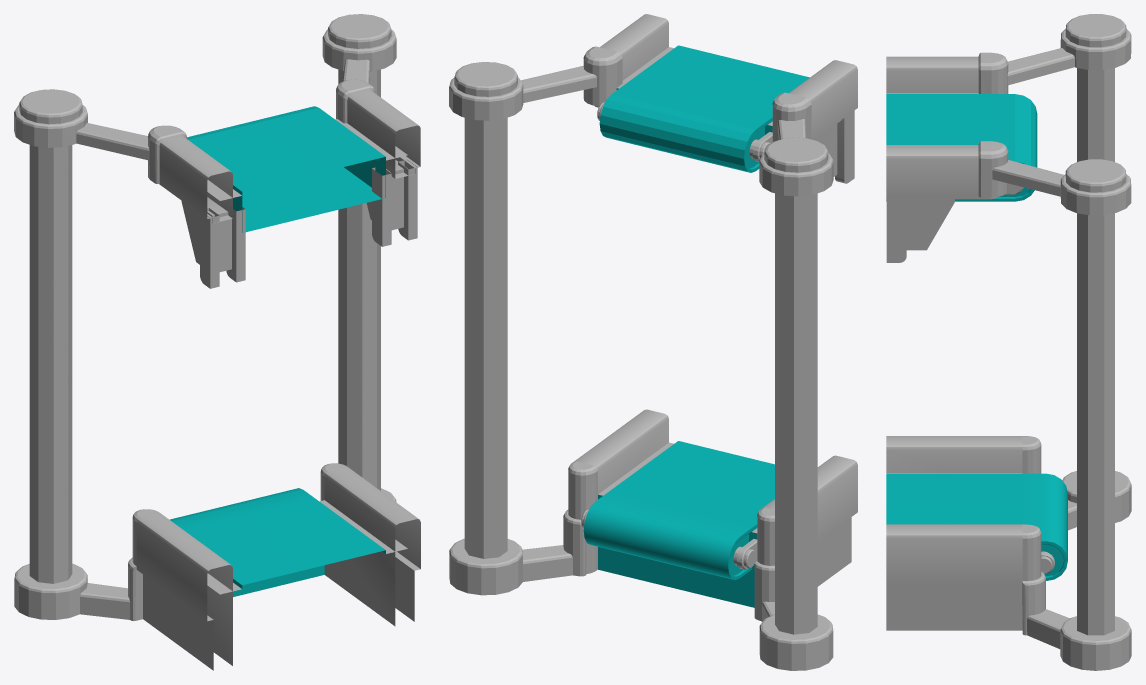
File: Lift1UpBackwardInternalVariant.gltf
3 renders of one model, left to right at view 1: azimuth 30°, elevation 25°; view 2: azimuth 150°, elevation 25°; view 3: azimuth 270°, elevation 25°, orthographic. The views are drawn at different scales.
Visible parts, largest first — view 1: Lift_1UpBackward_Layer0_LOD0; view 2: Lift_1UpBackward_Layer0_LOD0; view 3: Lift_1UpBackward_Layer0_LOD0.
Part boxes in pixels (left/top/right/bottom): Lift_1UpBackward_Layer0_LOD0: left=14, top=14, right=420, bottom=670; Lift_1UpBackward_Layer0_LOD0: left=449, top=14, right=857, bottom=670; Lift_1UpBackward_Layer0_LOD0: left=886, top=14, right=1131, bottom=670.
Bounding box in the file's own units: 0.9914 × 1.28 × 0.5863.
